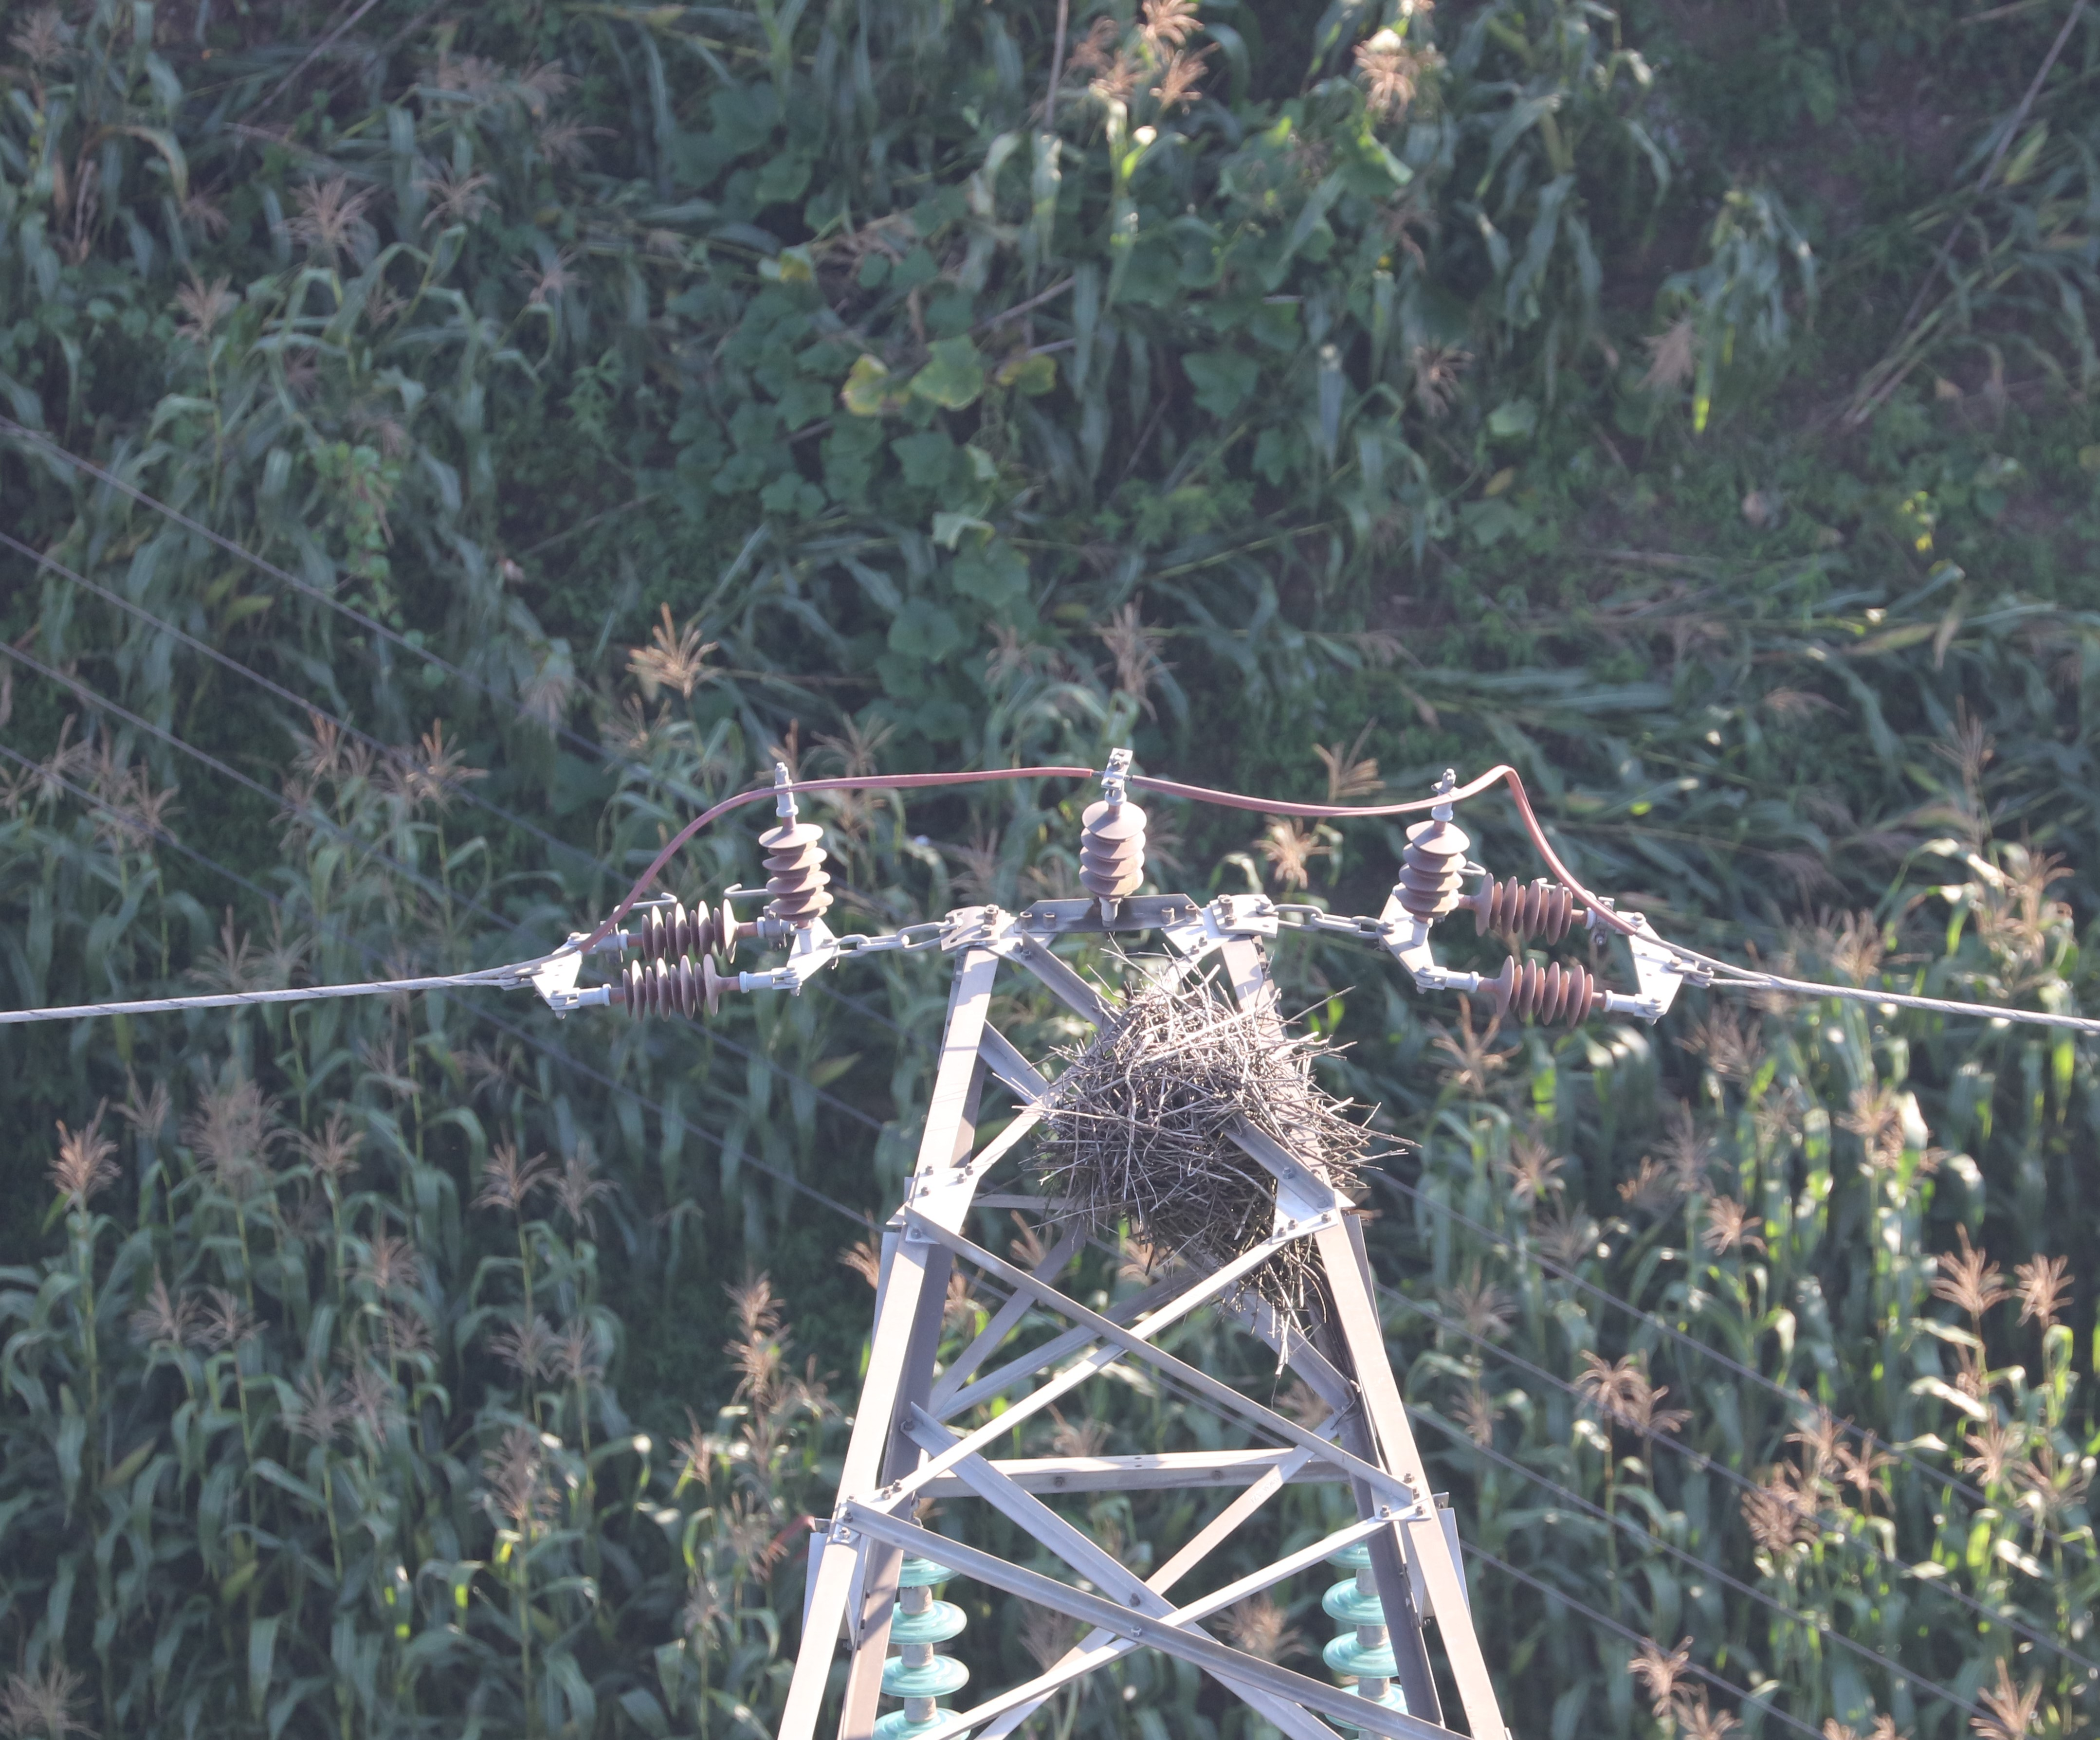niaowo: (1029, 971, 1387, 1316)
